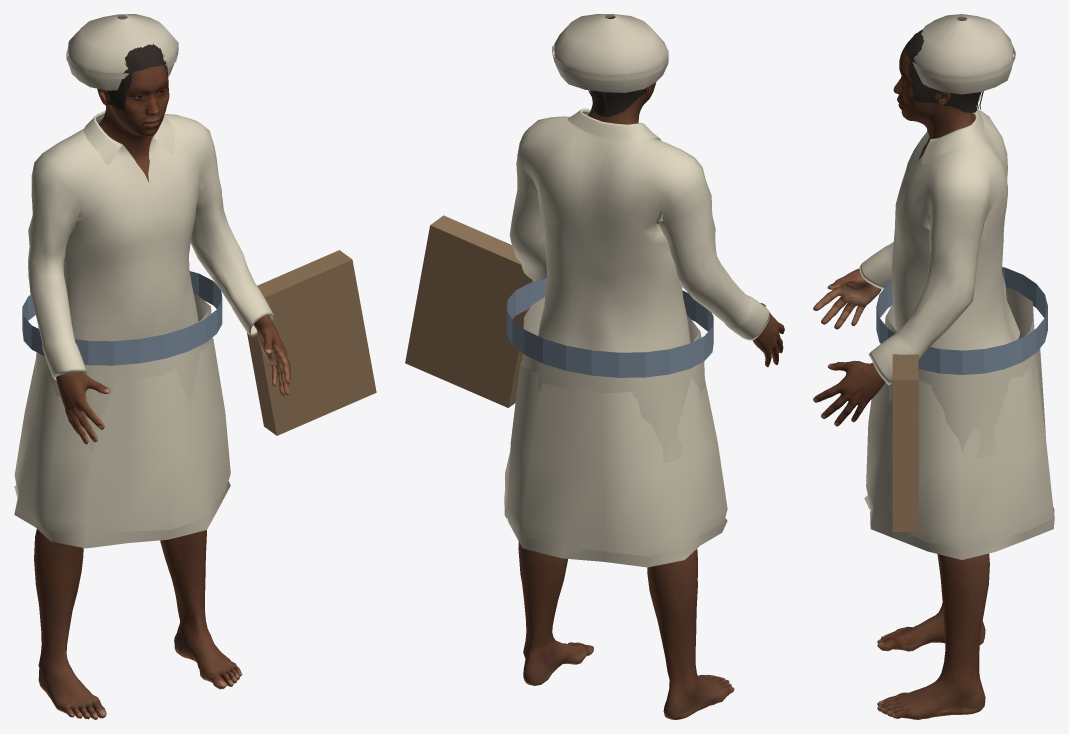
The model's file is mohurrir.glb.
3 renders of one model, left to right at view 1: azimuth 30°, elevation 25°; view 2: azimuth 150°, elevation 25°; view 3: azimuth 270°, elevation 25°, orthographic. The views are drawn at different scales.
Parts seen in each view (by area): view 1: Fitted cotton upper base_full_body_static, Knee length wrapped dhoti_full_body_static, village_farmer_MakeHuman_body_full_body_static, Record folio, Mohurrir waist cloth, Soft cotton head wrap_full_body_static, Kurta loose lower panel_full_body_static, Dhoti woven border_full_body_static, Farmer_hair_full_body_static; view 2: Fitted cotton upper base_full_body_static, Knee length wrapped dhoti_full_body_static, Record folio, village_farmer_MakeHuman_body_full_body_static, Mohurrir waist cloth, Soft cotton head wrap_full_body_static, Kurta loose lower panel_full_body_static, Dhoti woven border_full_body_static, Farmer_hair_full_body_static, Head wrap fold_full_body_static; view 3: Fitted cotton upper base_full_body_static, Knee length wrapped dhoti_full_body_static, village_farmer_MakeHuman_body_full_body_static, Kurta loose lower panel_full_body_static, Soft cotton head wrap_full_body_static, Record folio, Mohurrir waist cloth, Dhoti woven border_full_body_static, Farmer_hair_full_body_static, Head wrap fold_full_body_static.
Part boxes in pixels (box(x1,y1,x2,y2)): Fitted cotton upper base_full_body_static: box(28, 110, 274, 382); Knee length wrapped dhoti_full_body_static: box(14, 338, 230, 542); village_farmer_MakeHuman_body_full_body_static: box(34, 65, 290, 719); Record folio: box(247, 250, 376, 435); Mohurrir waist cloth: box(22, 271, 222, 365); Soft cotton head wrap_full_body_static: box(68, 14, 178, 90); Kurta loose lower panel_full_body_static: box(30, 294, 212, 451); Dhoti woven border_full_body_static: box(14, 481, 230, 548); Farmer_hair_full_body_static: box(104, 43, 168, 110); Fitted cotton upper base_full_body_static: box(509, 108, 769, 352); Knee length wrapped dhoti_full_body_static: box(505, 360, 727, 560); Record folio: box(405, 215, 533, 407); village_farmer_MakeHuman_body_full_body_static: box(518, 82, 784, 719); Mohurrir waist cloth: box(506, 278, 713, 377); Soft cotton head wrap_full_body_static: box(554, 14, 668, 92); Kurta loose lower panel_full_body_static: box(522, 297, 705, 462); Dhoti woven border_full_body_static: box(504, 489, 727, 567); Farmer_hair_full_body_static: box(588, 16, 652, 116); Head wrap fold_full_body_static: box(552, 44, 668, 80); Fitted cotton upper base_full_body_static: box(859, 109, 1019, 385); Knee length wrapped dhoti_full_body_static: box(866, 321, 1052, 551); village_farmer_MakeHuman_body_full_body_static: box(813, 46, 989, 719); Kurta loose lower panel_full_body_static: box(885, 287, 1035, 458); Soft cotton head wrap_full_body_static: box(914, 14, 1013, 94); Record folio: box(892, 354, 918, 531); Mohurrir waist cloth: box(876, 267, 1047, 374); Dhoti woven border_full_body_static: box(864, 495, 1054, 559); Farmer_hair_full_body_static: box(905, 29, 983, 112); Head wrap fold_full_body_static: box(912, 44, 1015, 82).
Bounding box in the file's own units: 0.8751 × 1.67 × 0.5552.
9 materials, 2 textured.
